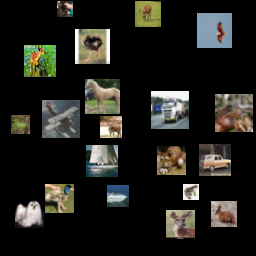airplane: (214, 24, 246, 56), (95, 65, 117, 87), (36, 98, 52, 114)
automobile: (91, 119, 126, 154), (83, 29, 115, 61), (37, 67, 66, 96), (30, 13, 49, 32)
cat: (168, 105, 203, 140)
deer: (91, 205, 129, 243), (164, 42, 190, 68)
dog: (168, 150, 206, 188), (83, 163, 102, 182)
frog: (52, 187, 90, 225), (130, 76, 162, 108), (124, 10, 153, 39)
ship: (43, 140, 81, 178), (212, 114, 250, 152), (203, 214, 225, 236), (2, 92, 24, 114)
